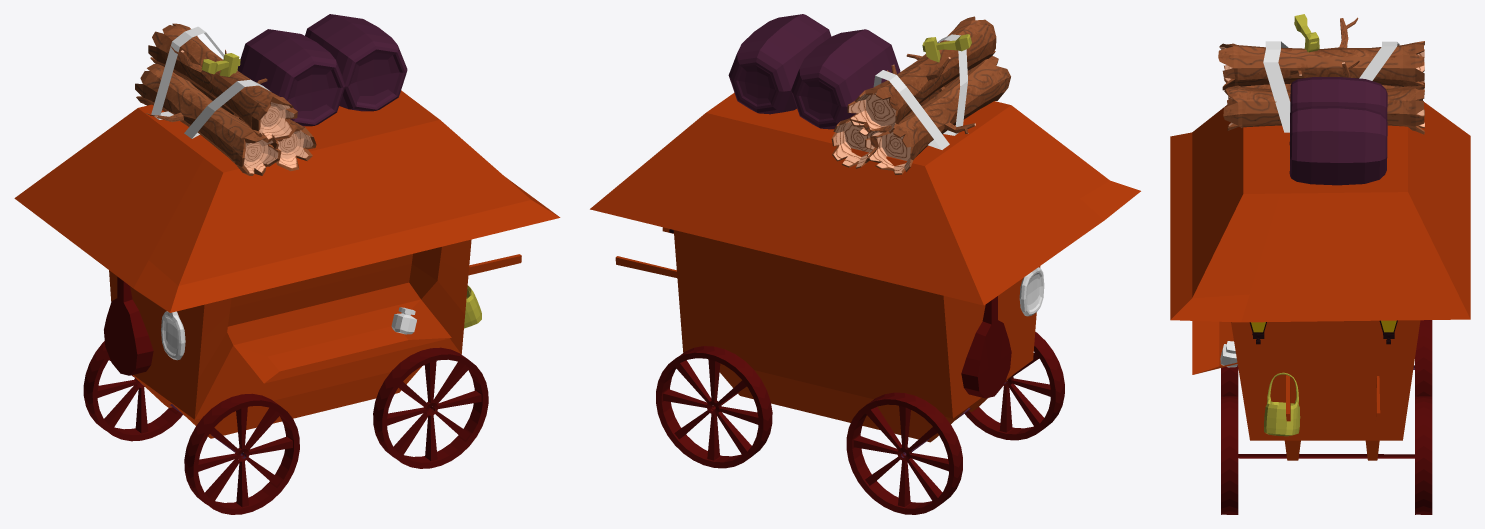
File: barraquinha pronta para a textura.fbx
The picture shows the model from 3 angles, left to right: view 1: azimuth 30°, elevation 25°; view 2: azimuth 150°, elevation 25°; view 3: azimuth 270°, elevation 25°; orthographic projection. The views are drawn at different scales.
Parts seen in each view (by area): view 1: carroça, rodas, troncos, barril, barril.001, bandolim, laço2, mesma textura, frigideira, laço, machado; view 2: carroça, rodas, troncos, barril, barril.001, bandolim, laço2, mesma textura, frigideira, laço, machado; view 3: carroça, troncos, barril.001, rodas, barril, laço, balde, cabo das rodas, laço2, mesma textura, machado, poçao, duplicar depois.
Boxes of the visible parts, x1,y1,x2,y2 form: carroça: (14, 90, 560, 438); rodas: (83, 341, 488, 514); troncos: (135, 23, 316, 175); barril: (237, 29, 344, 126); barril.001: (305, 14, 407, 111); bandolim: (104, 276, 153, 375); laço2, mesma textura: (151, 26, 224, 119); frigideira: (161, 311, 185, 360); laço: (184, 79, 270, 138); machado: (201, 53, 240, 76); carroça: (590, 92, 1140, 442); rodas: (656, 332, 1064, 514); troncos: (831, 16, 1010, 174); barril: (791, 29, 900, 129); barril.001: (728, 14, 831, 114); bandolim: (961, 296, 1011, 398); laço2, mesma textura: (873, 70, 949, 149); frigideira: (1019, 267, 1044, 316); laço: (937, 34, 967, 135); machado: (922, 34, 971, 62); carroça: (1170, 102, 1470, 460); troncos: (1218, 17, 1424, 134); barril.001: (1289, 106, 1387, 185); rodas: (1221, 320, 1432, 514); barril: (1289, 77, 1387, 144); laço: (1263, 41, 1290, 132); balde: (1264, 372, 1300, 436); cabo das rodas: (1238, 365, 1414, 458); laço2, mesma textura: (1359, 41, 1399, 80); machado: (1294, 14, 1319, 52); poçao, duplicar depois: (1220, 341, 1237, 367).
Size of the model in its own units: 841 by 824 by 551.
7 materials, 1 textured.
